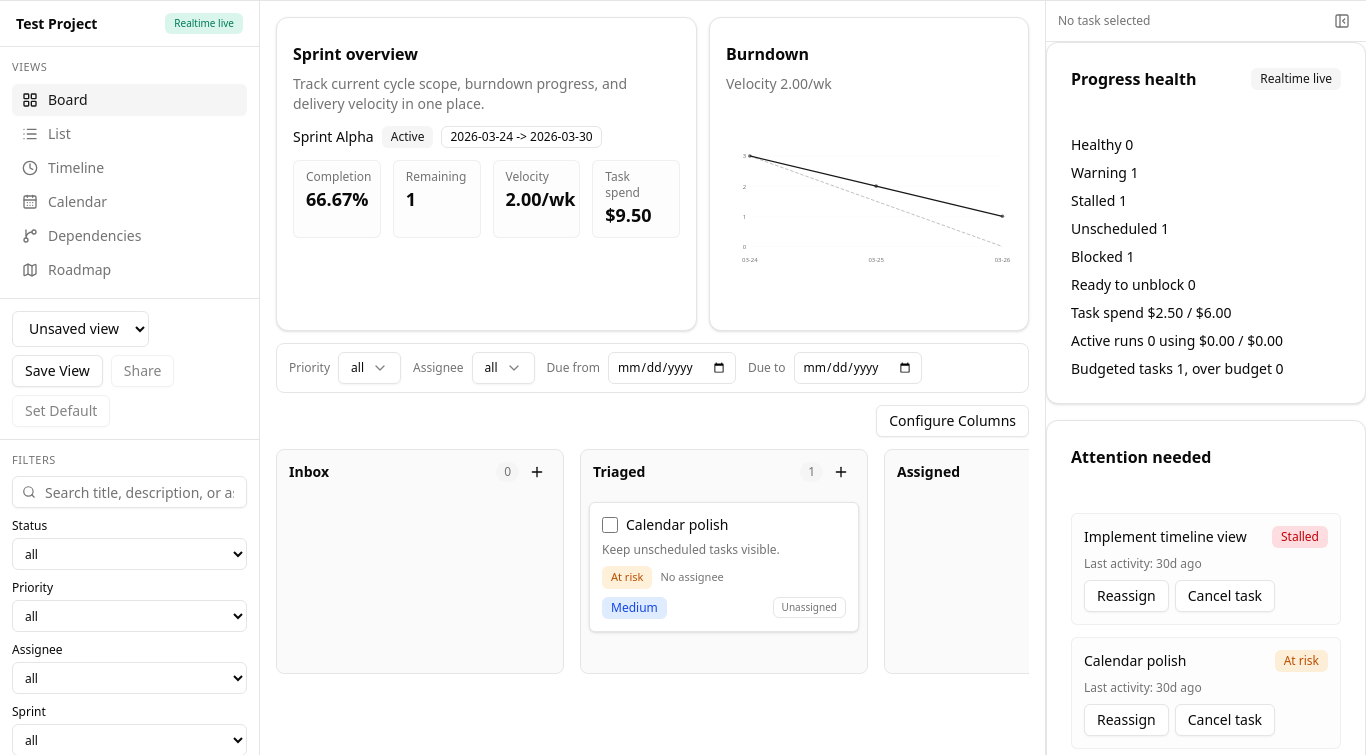
ProjectTaskWorkspace › shows inline feedback when a timeline scheduling update fails
The width and height of the screenshot is (1366, 755).
What coordinates should you click on to do the following:
click the button "Timeline"
I would click on:
 (130, 168)
Its box is [12, 152, 247, 184].
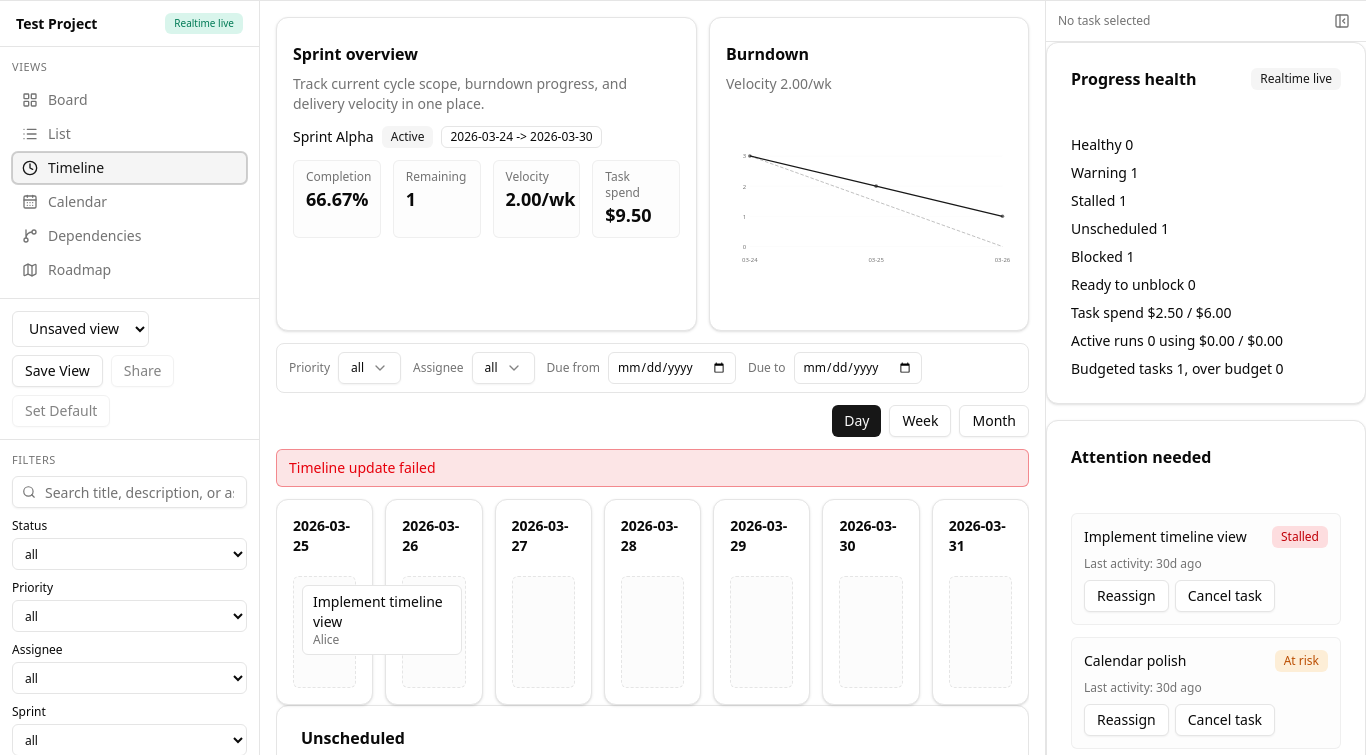
Result: the text "Timeline update failed" is shown at [276, 449, 1029, 487]
Result: the text "Implement timeline view" below "2026-03-25" is shown at [313, 592, 443, 631]
